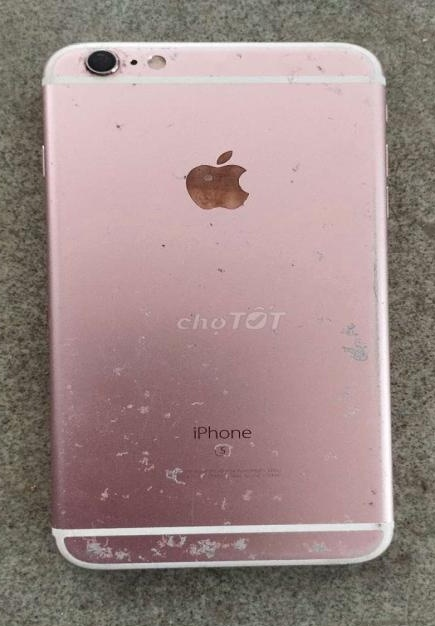scratch: (86, 340, 307, 502), (55, 514, 397, 568), (56, 39, 378, 89), (166, 144, 255, 217), (150, 231, 240, 283), (333, 306, 382, 379), (287, 136, 313, 199), (367, 459, 388, 518), (100, 111, 132, 147), (319, 239, 344, 274)
